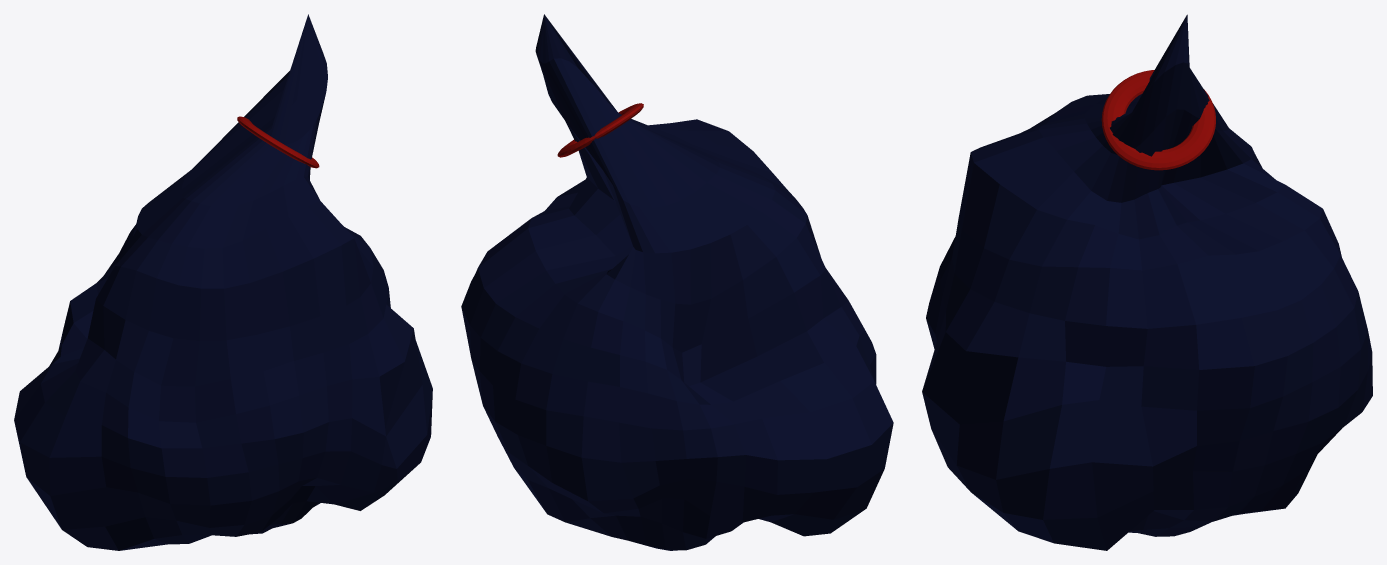
File: SacoLixo2.fbx
3 views of the same model, side by side, from view 1: azimuth 30°, elevation 25°; view 2: azimuth 150°, elevation 25°; view 3: azimuth 270°, elevation 25° (orthographic). The views are drawn at different scales.
Visible parts, largest first — view 1: Sphere, Torus; view 2: Sphere, Torus; view 3: Sphere, Torus.
Part boxes in pixels (x1,y1,x2,y2): Sphere: [14, 14, 432, 550]; Torus: [237, 116, 319, 168]; Sphere: [461, 14, 893, 550]; Torus: [557, 103, 643, 157]; Sphere: [922, 14, 1372, 550]; Torus: [1101, 70, 1215, 170].
Bounding box in the file's own units: 279 × 337 × 245.
2 materials, 1 textured.
